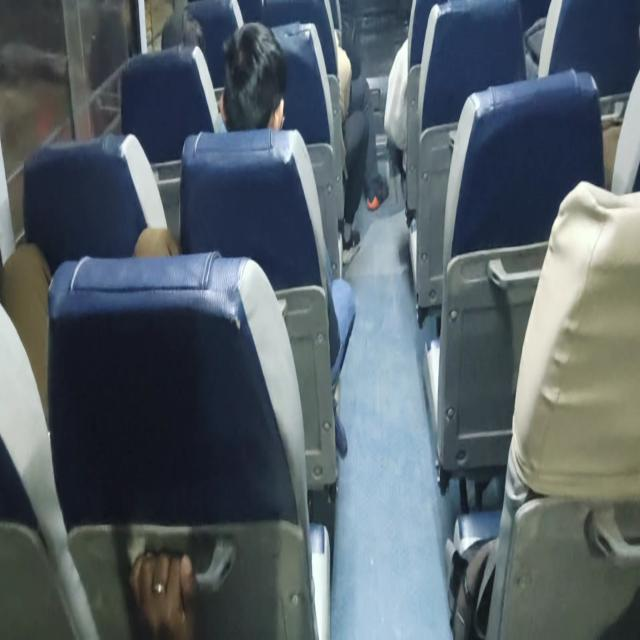person: (231, 27, 292, 127), (159, 3, 209, 50)
